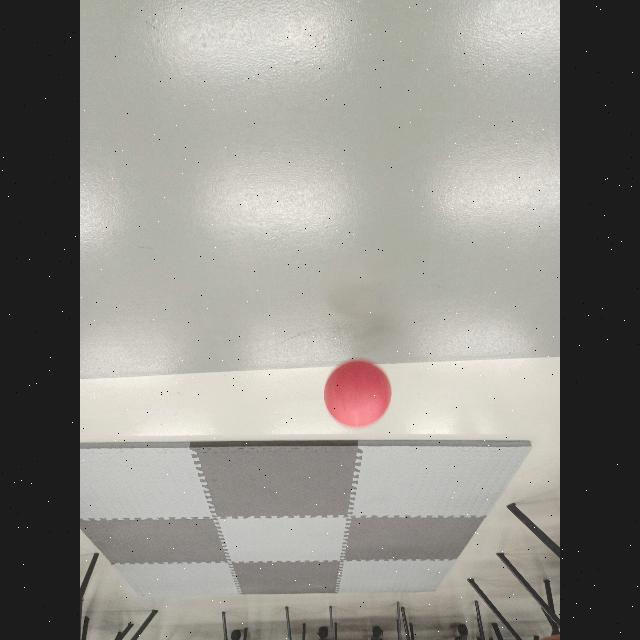R: (323, 361, 391, 429)
